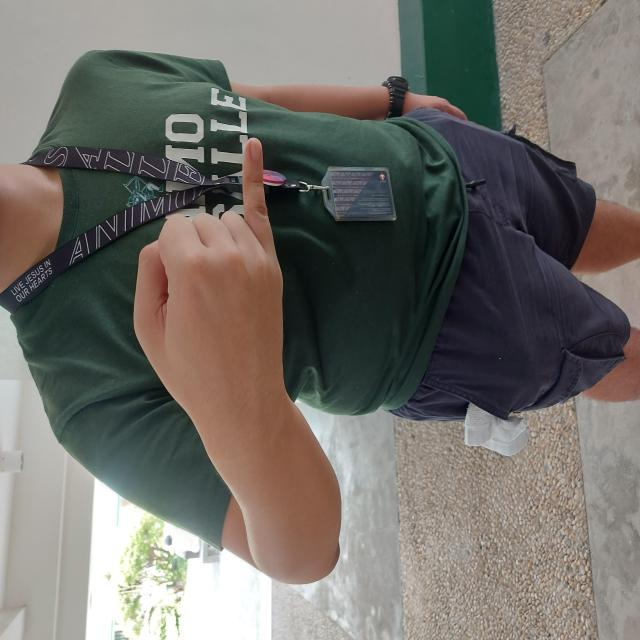J: (223, 132, 508, 286)
